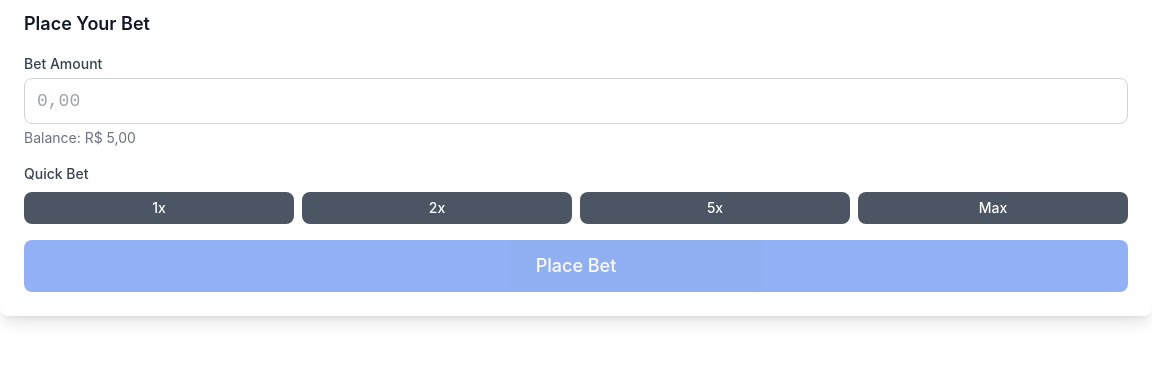
Test: BetForm - Preservation Tests (Task 1.5) › Requirement 3.1, 3.2: Validation messages display correctly › displays validation error for insufficient balance
Type "10,00" into the field named "Enter bet amount in reais" at (576, 101), box [24, 78, 1128, 124]
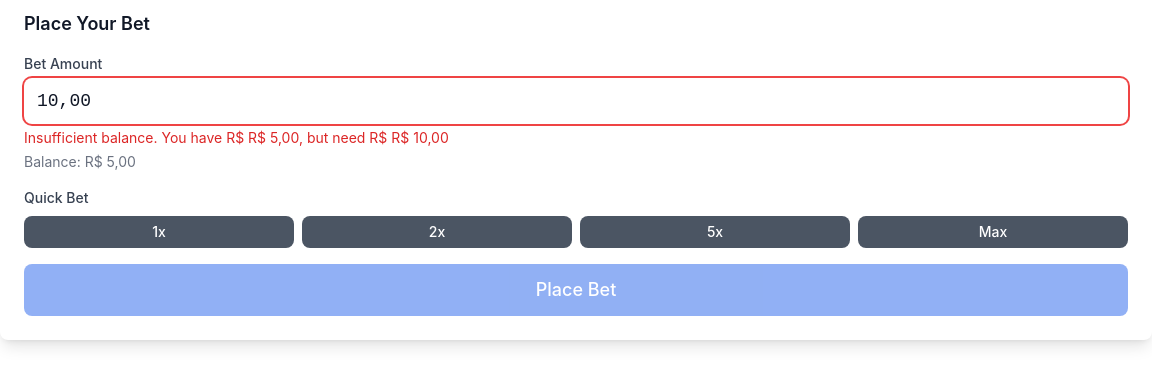
Expected: the button "Place Bet" is disabled, [24, 264, 1128, 316]
Expected: the text "Insufficient balance. You have R$ R$ 5,00, but need R$ R$ 10,00" is shown, [24, 129, 449, 146]
